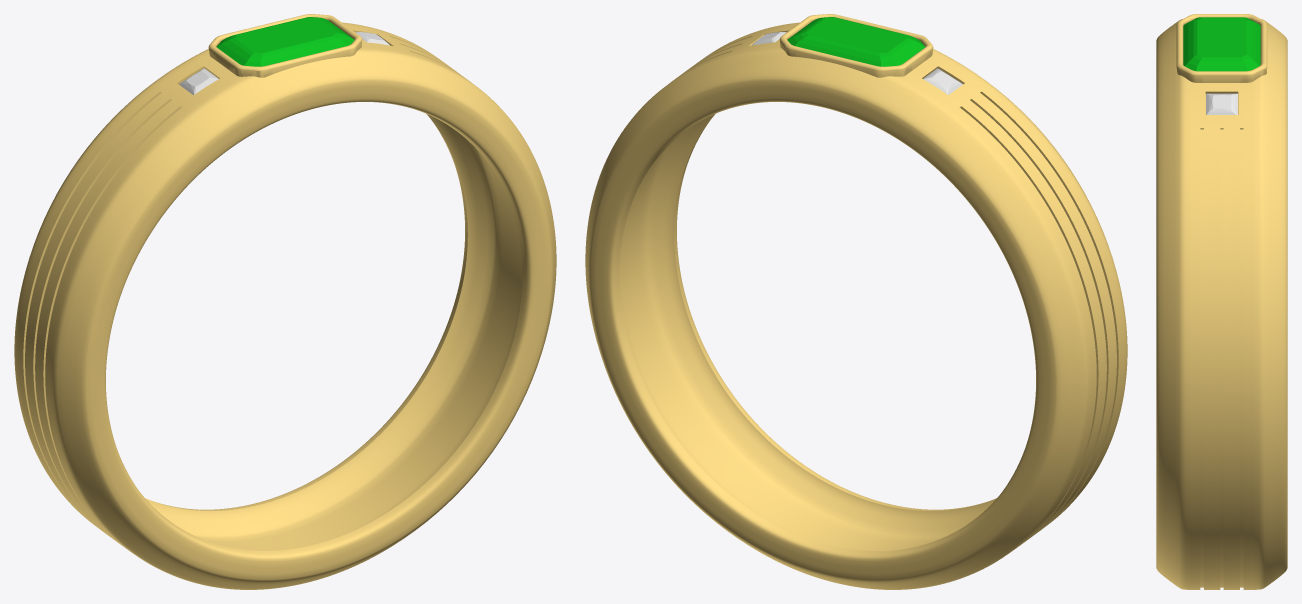
File: PaigeV2yg_blender.glb
3 views of the same model, side by side, from view 1: azimuth 30°, elevation 25°; view 2: azimuth 150°, elevation 25°; view 3: azimuth 270°, elevation 25° (orthographic).
Visible parts, largest first — view 1: v2 Paige YG for 3d model, Paige emerald for 3d model; view 2: v2 Paige YG for 3d model, Paige emerald for 3d model; view 3: v2 Paige YG for 3d model, Paige emerald for 3d model, Paige dia for 3d model.
Boxes of the visible parts, <box> form: v2 Paige YG for 3d model: <box>14,14,556,589</box>; Paige emerald for 3d model: <box>216,17,354,66</box>; v2 Paige YG for 3d model: <box>585,14,1127,589</box>; Paige emerald for 3d model: <box>787,17,925,66</box>; v2 Paige YG for 3d model: <box>1156,14,1287,589</box>; Paige emerald for 3d model: <box>1183,17,1260,71</box>; Paige dia for 3d model: <box>1206,93,1237,114</box>.
Size of the model in its own units: 22.16 by 22.48 by 5.1.
